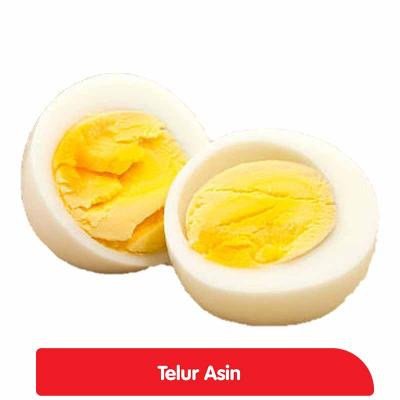telur: (192, 159, 330, 305), (48, 94, 156, 268)
